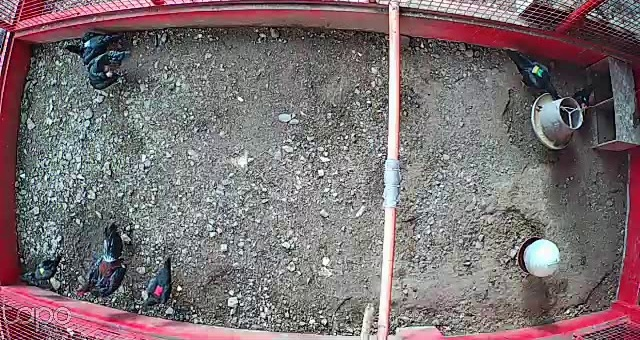Chicken: (500, 40, 561, 103), (137, 254, 184, 312), (60, 27, 125, 65), (88, 47, 132, 93), (563, 78, 604, 119), (21, 250, 65, 287)
Rooster: (78, 223, 136, 305)
Saddle_Color_Red: (153, 283, 163, 296)
Saddle_Color_Yellow: (38, 263, 46, 273)
Saddle_Color_YellowGreen: (530, 63, 544, 76)
